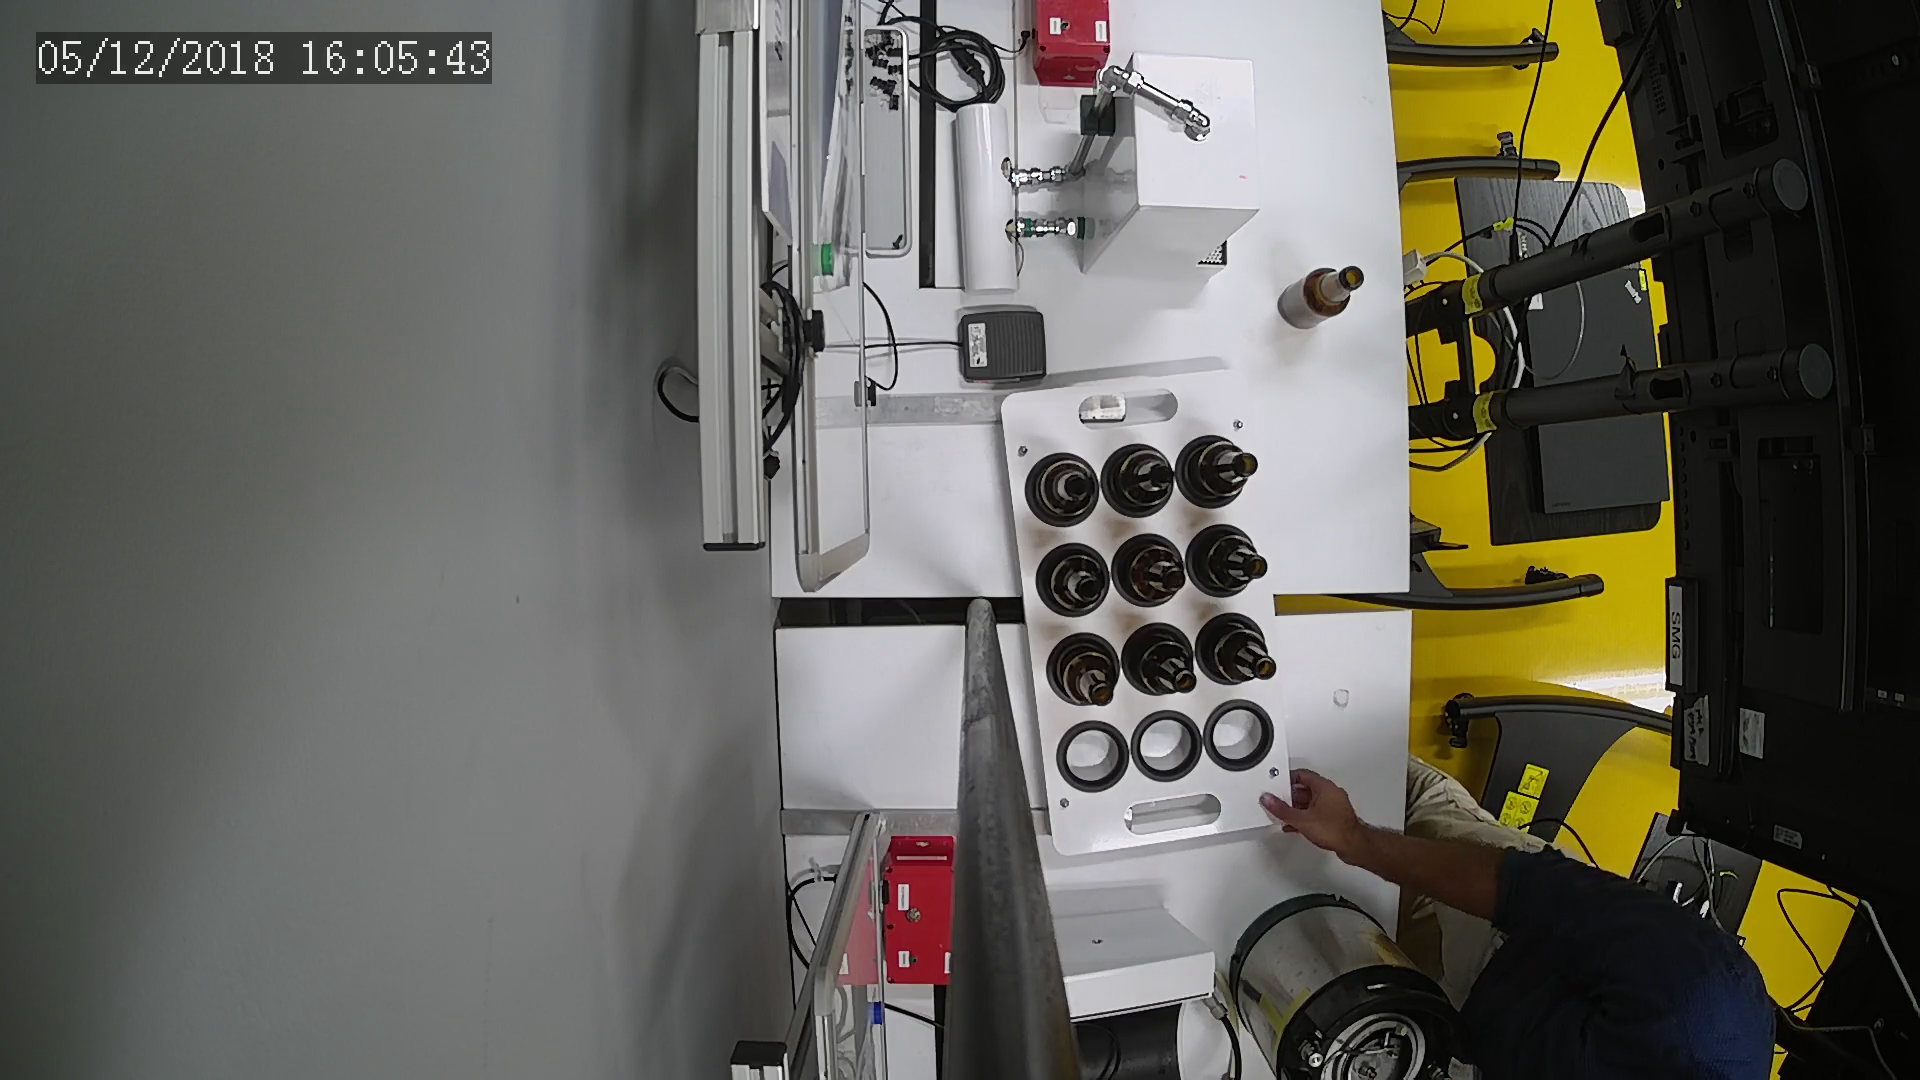filled_bottle: (1201, 616, 1287, 694), (1035, 541, 1112, 624), (1044, 632, 1122, 711), (1182, 433, 1261, 506), (1193, 527, 1270, 601), (1122, 624, 1201, 695), (1114, 535, 1189, 607), (1026, 454, 1102, 524), (1101, 443, 1174, 516)
trolley: (1004, 363, 1299, 855)
unfilled_bottle: (1274, 262, 1366, 332)
